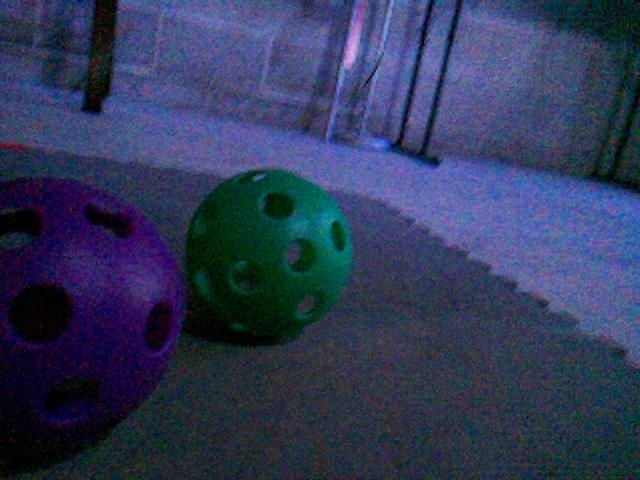Green: (181, 168, 354, 339)
Purple: (0, 177, 187, 467)
